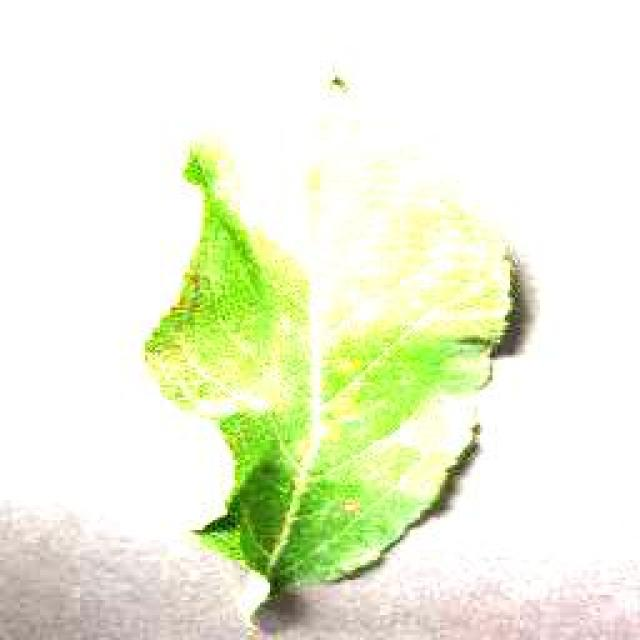apple scab disease: (140, 75, 528, 610)
